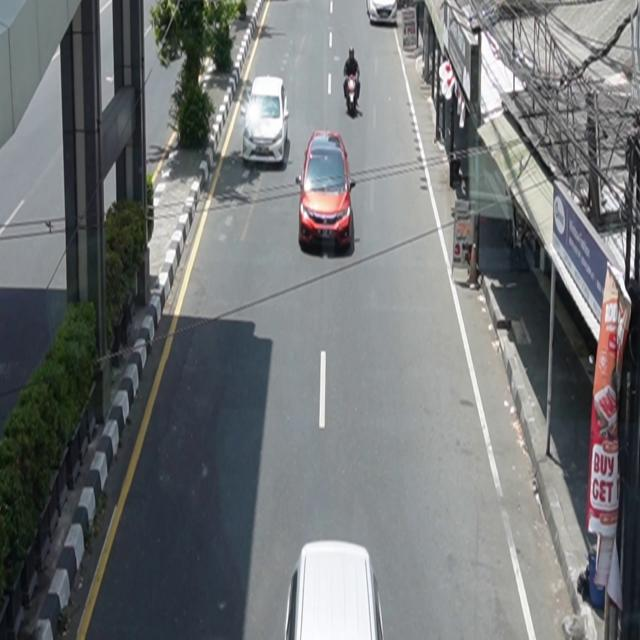car: (296, 130, 357, 252), (243, 76, 290, 166), (367, 1, 398, 26)
